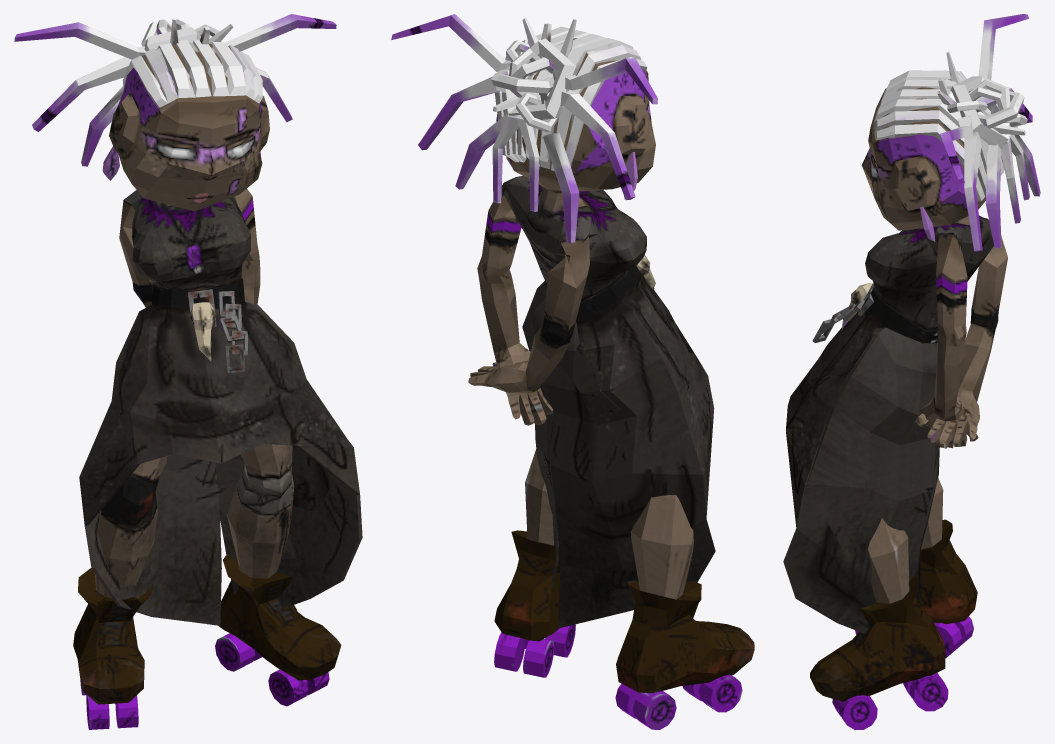
File: bruja_000042.obj
3 renders of one model, left to right at view 1: azimuth 30°, elevation 25°; view 2: azimuth 150°, elevation 25°; view 3: azimuth 270°, elevation 25°, orthographic. The views are drawn at different scales.
Visible parts, largest first — view 1: Bruja_Plane.001; view 2: Bruja_Plane.001; view 3: Bruja_Plane.001.
Boxes of the visible parts, x1,y1,x2,y2 form: Bruja_Plane.001: (14,14,362,729); Bruja_Plane.001: (391,14,754,729); Bruja_Plane.001: (783,14,1040,729).
Bounding box in the file's own units: 7.58 × 16.04 × 5.88.
